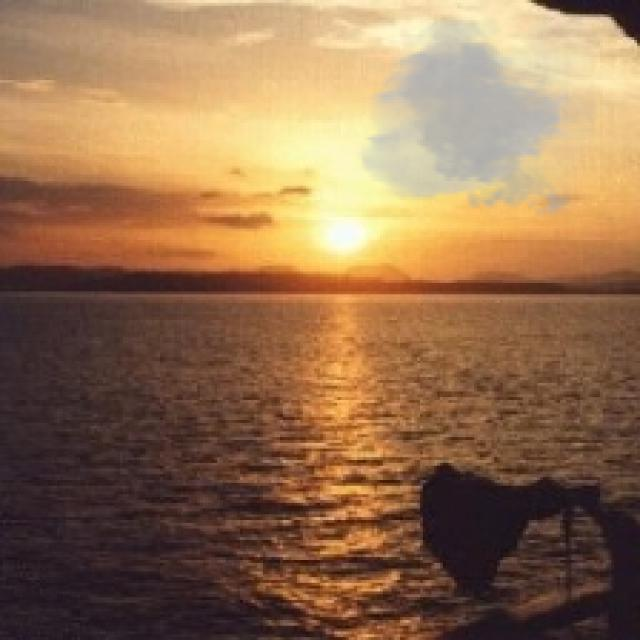smoke: (354, 11, 594, 223)
